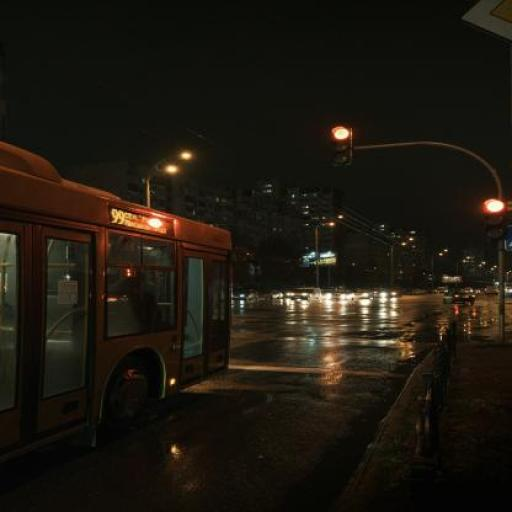street light: (140, 151, 192, 311), (316, 216, 344, 292), (391, 238, 413, 291), (432, 250, 448, 290), (457, 257, 470, 291)
